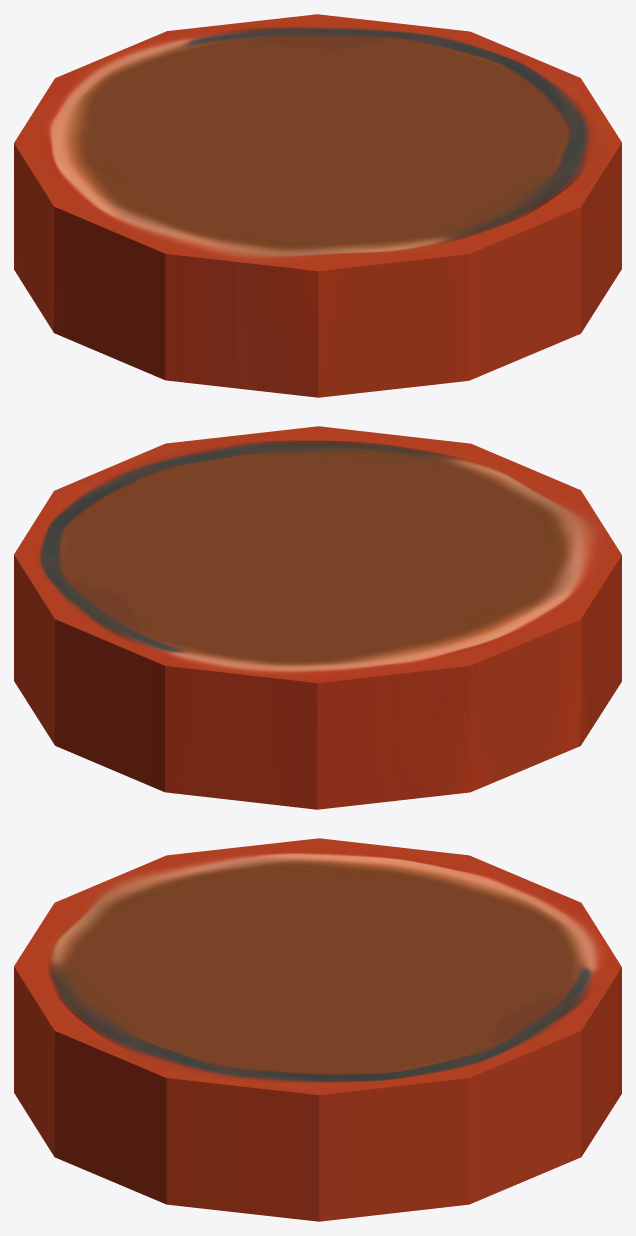
File: InvTop.glb
The picture shows the model from 3 angles, top to bottom: view 1: azimuth 30°, elevation 25°; view 2: azimuth 150°, elevation 25°; view 3: azimuth 270°, elevation 25°; orthographic projection.
Visible parts, largest first — view 1: InvTop; view 2: InvTop; view 3: InvTop.
Part boxes in pixels (bbox=[...]): InvTop: bbox=[14, 14, 621, 397]; InvTop: bbox=[14, 426, 621, 809]; InvTop: bbox=[14, 838, 621, 1221].
Size of the model in its own units: 22.43 by 5.15 by 22.43.
1 material, 1 textured.
